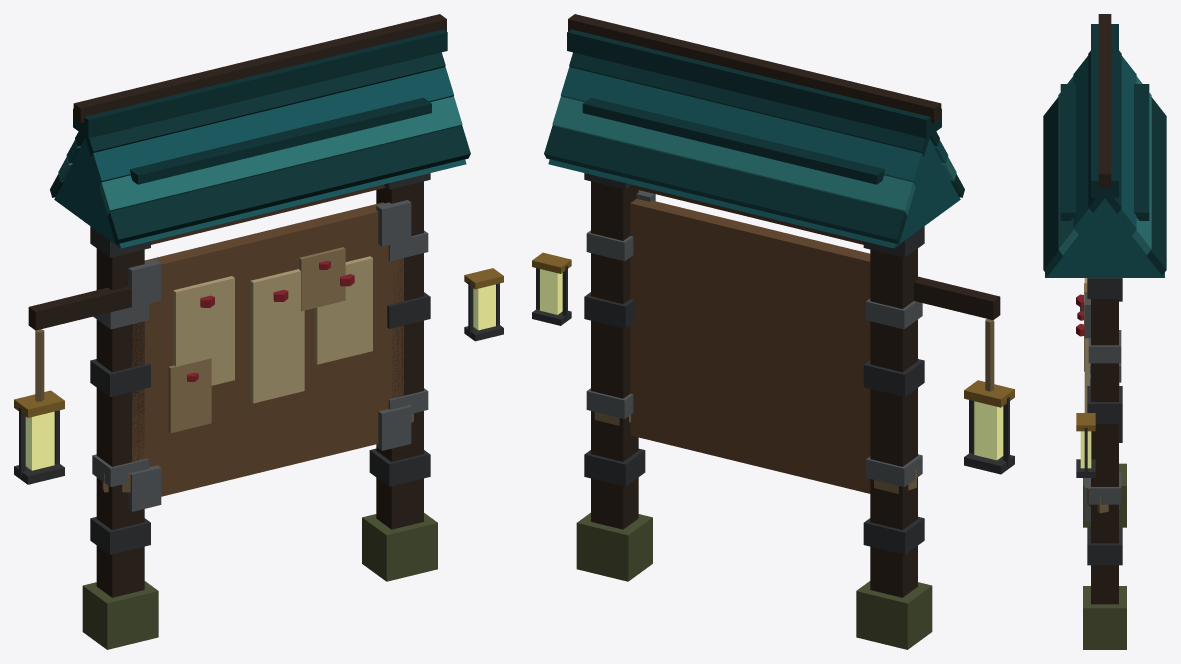
Rendered from fenbridge_muster_board.glb.
The picture shows the model from 3 angles, left to right: view 1: azimuth 30°, elevation 25°; view 2: azimuth 150°, elevation 25°; view 3: azimuth 270°, elevation 25°; orthographic projection. The views are drawn at different scales.
Parts seen in each view (by area): view 1: FenbridgeMusterBoard_FenbridgeOpaque, FenbridgeMusterBoard_FenbridgeEmissive; view 2: FenbridgeMusterBoard_FenbridgeOpaque, FenbridgeMusterBoard_FenbridgeEmissive; view 3: FenbridgeMusterBoard_FenbridgeOpaque, FenbridgeMusterBoard_FenbridgeEmissive.
Part boxes in pixels (x1=…): FenbridgeMusterBoard_FenbridgeOpaque: x1=14, y1=14, x2=503, y2=649; FenbridgeMusterBoard_FenbridgeEmissive: x1=25, y1=284, x2=495, y2=470; FenbridgeMusterBoard_FenbridgeOpaque: x1=532, y1=14, x2=1014, y2=649; FenbridgeMusterBoard_FenbridgeEmissive: x1=540, y1=269, x2=1003, y2=460; FenbridgeMusterBoard_FenbridgeOpaque: x1=1043, y1=14, x2=1166, y2=649; FenbridgeMusterBoard_FenbridgeEmissive: x1=1080, y1=431, x2=1091, y2=468.
Bounding box in the file's own units: 2.4 × 2.6 × 0.5999.
